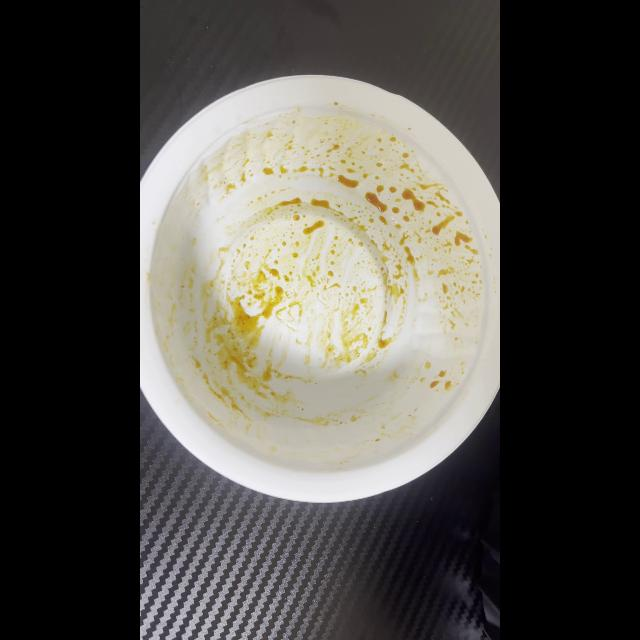dirty: (164, 122, 488, 466)
